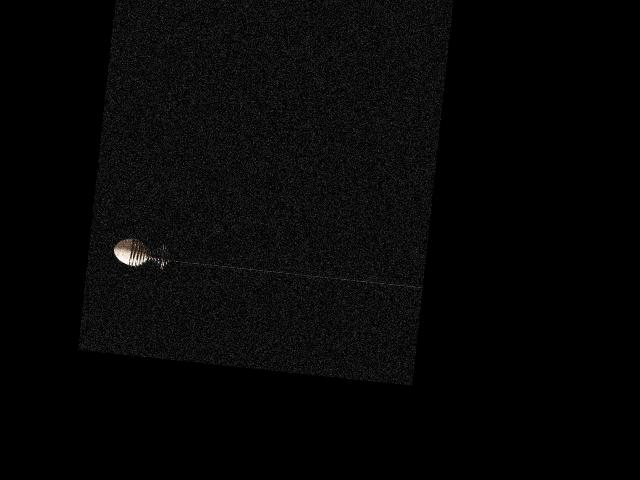egg: (112, 237, 149, 267)
